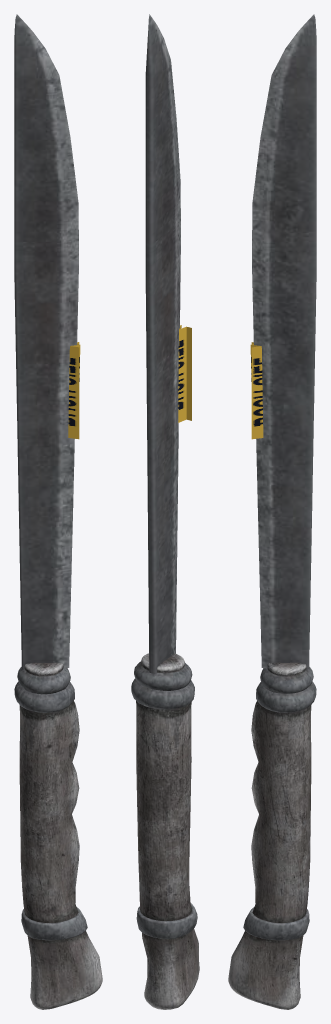
File: nyb_dundee_knife.glb
3 views of the same model, side by side, from view 1: azimuth 90°, elevation 25°; view 2: azimuth 150°, elevation 25°; view 3: azimuth 270°, elevation 25° (orthographic).
Visible parts, largest first — view 1: machete, stk_lbl_1034dc7606.png; view 2: machete, stk_lbl_1034dc7606.png; view 3: machete, stk_lbl_1034dc7606.png.
Part boxes in pixels (bbox=[...]): machete: bbox=[14, 14, 102, 1009]; stk_lbl_1034dc7606.png: bbox=[68, 342, 80, 439]; machete: bbox=[131, 14, 199, 1009]; stk_lbl_1034dc7606.png: bbox=[178, 325, 191, 422]; machete: bbox=[228, 14, 316, 1009]; stk_lbl_1034dc7606.png: bbox=[250, 342, 263, 439].
Bounding box in the file's own units: 0.0444 × 0.7548 × 0.0611.
Materials: 2 (2 with a texture image).
